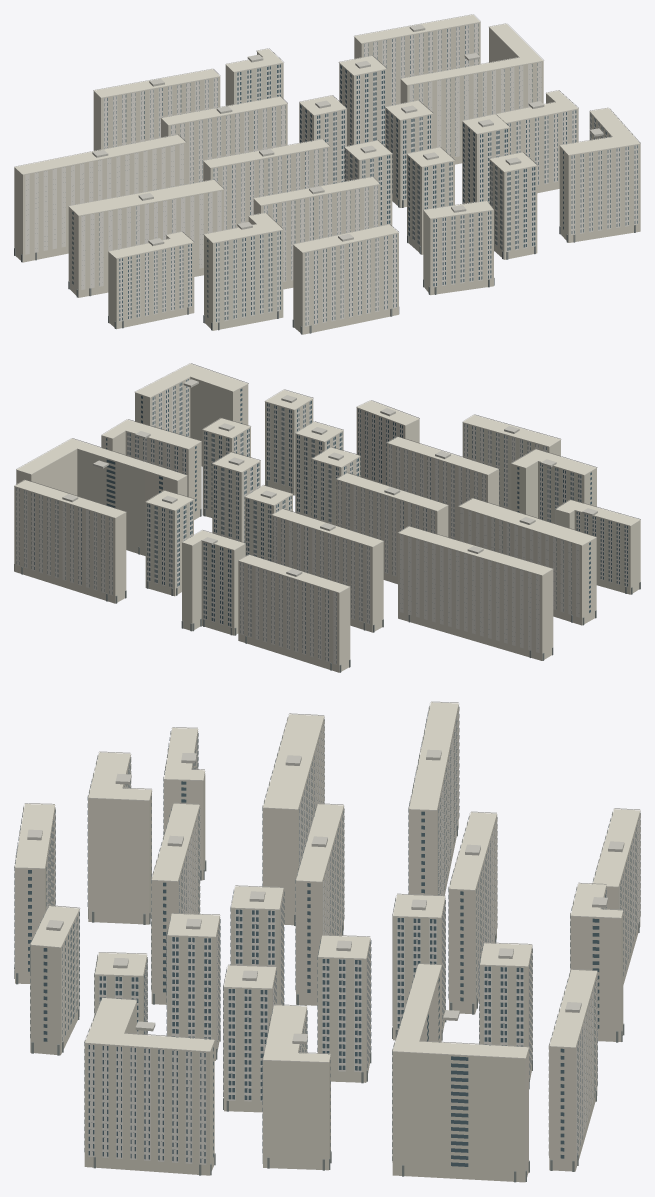
Rendered from representative-a10026879.glb.
3 renders of one model, top to bottom at view 1: azimuth 30°, elevation 25°; view 2: azimuth 150°, elevation 25°; view 3: azimuth 270°, elevation 25°, orthographic. The views are drawn at different scales.
Visible parts, largest first — view 1: A10026879_wall001, A10026879_trim001, A10026879_glass001, A10026879_roof001, A10026879_base001; view 2: A10026879_wall001, A10026879_trim001, A10026879_glass001, A10026879_roof001, A10026879_base001; view 3: A10026879_wall001, A10026879_trim001, A10026879_glass001, A10026879_roof001, A10026879_base001.
Boxes of the visible parts, x1,y1,x2,y2 form: A10026879_wall001: (14,15,640,334); A10026879_trim001: (14,14,640,326); A10026879_glass001: (72,24,637,325); A10026879_roof001: (92,24,603,245); A10026879_base001: (14,199,635,334); A10026879_wall001: (14,363,640,672); A10026879_trim001: (14,363,640,664); A10026879_glass001: (16,379,627,663); A10026879_roof001: (62,379,597,576); A10026879_base001: (14,476,640,672); A10026879_wall001: (15,702,640,1182); A10026879_trim001: (14,701,640,1164); A10026879_glass001: (14,707,640,1166); A10026879_roof001: (27,749,624,1044); A10026879_base001: (14,825,639,1182).
Bounding box in the file's own units: 284 × 47 × 211.
